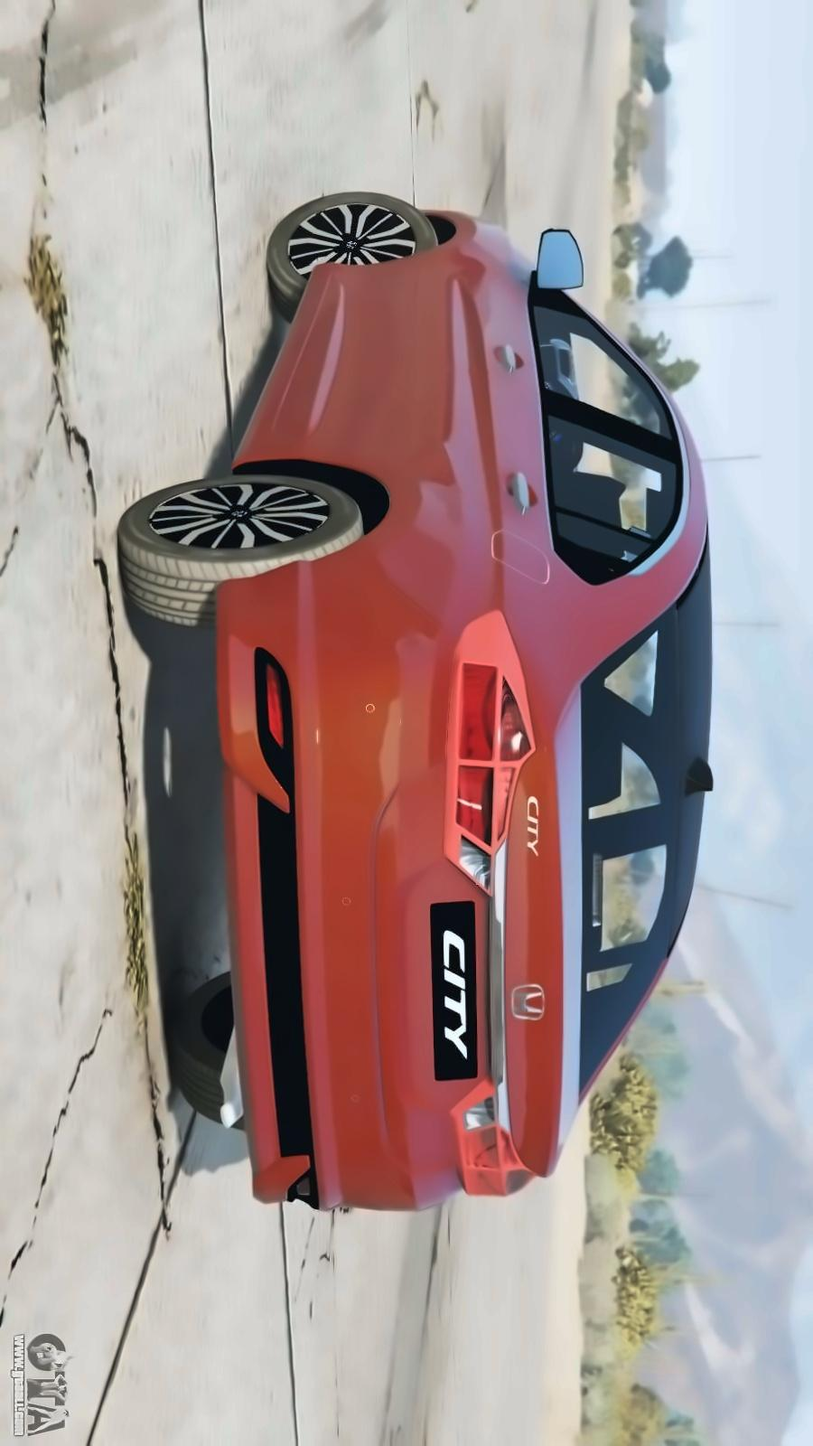Car boot: (357, 644, 609, 1216)
Fender - -R-L-: (323, 434, 615, 678)
Headlight - -L-: (450, 610, 537, 895)
Headlight - -R-: (445, 1085, 533, 1198)
Passenger-s door - -F-L-: (262, 265, 717, 443)
Passenger-s door - -R-L-: (217, 391, 729, 546)
Rear bumper: (206, 567, 444, 1220)
Side bumper - -L-: (226, 249, 374, 475)
Side mirror - -L-: (515, 222, 603, 309)
